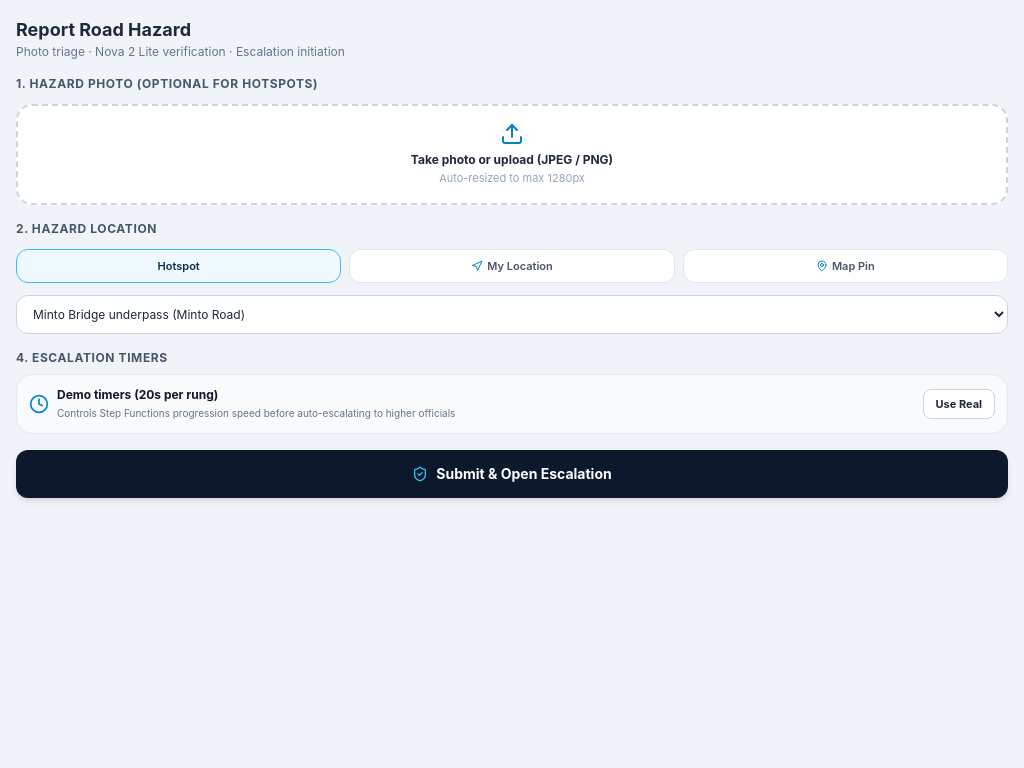
Test: ReportScreen › surfaces backend errors instead of fabricating a case
Click the button "Submit & Open Escalation". click: point(512, 474)
box: x1=16 y1=450 x2=1008 y2=498
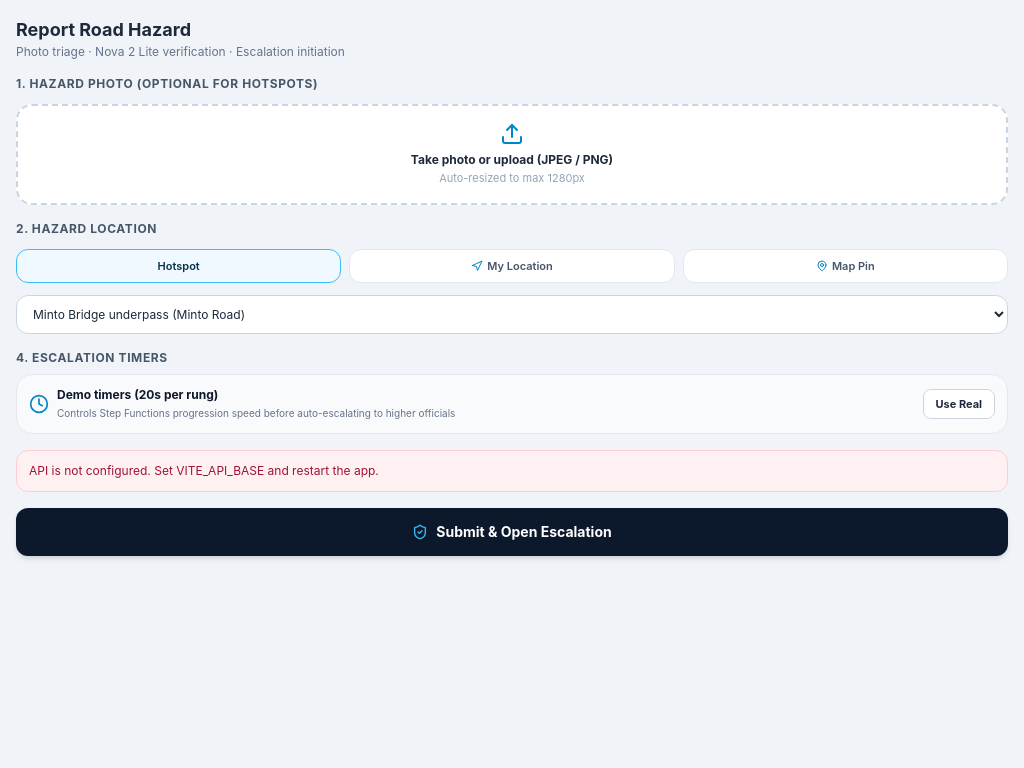
Check: the text "API is not configured" is shown, box x1=29 y1=463 x2=379 y2=478
